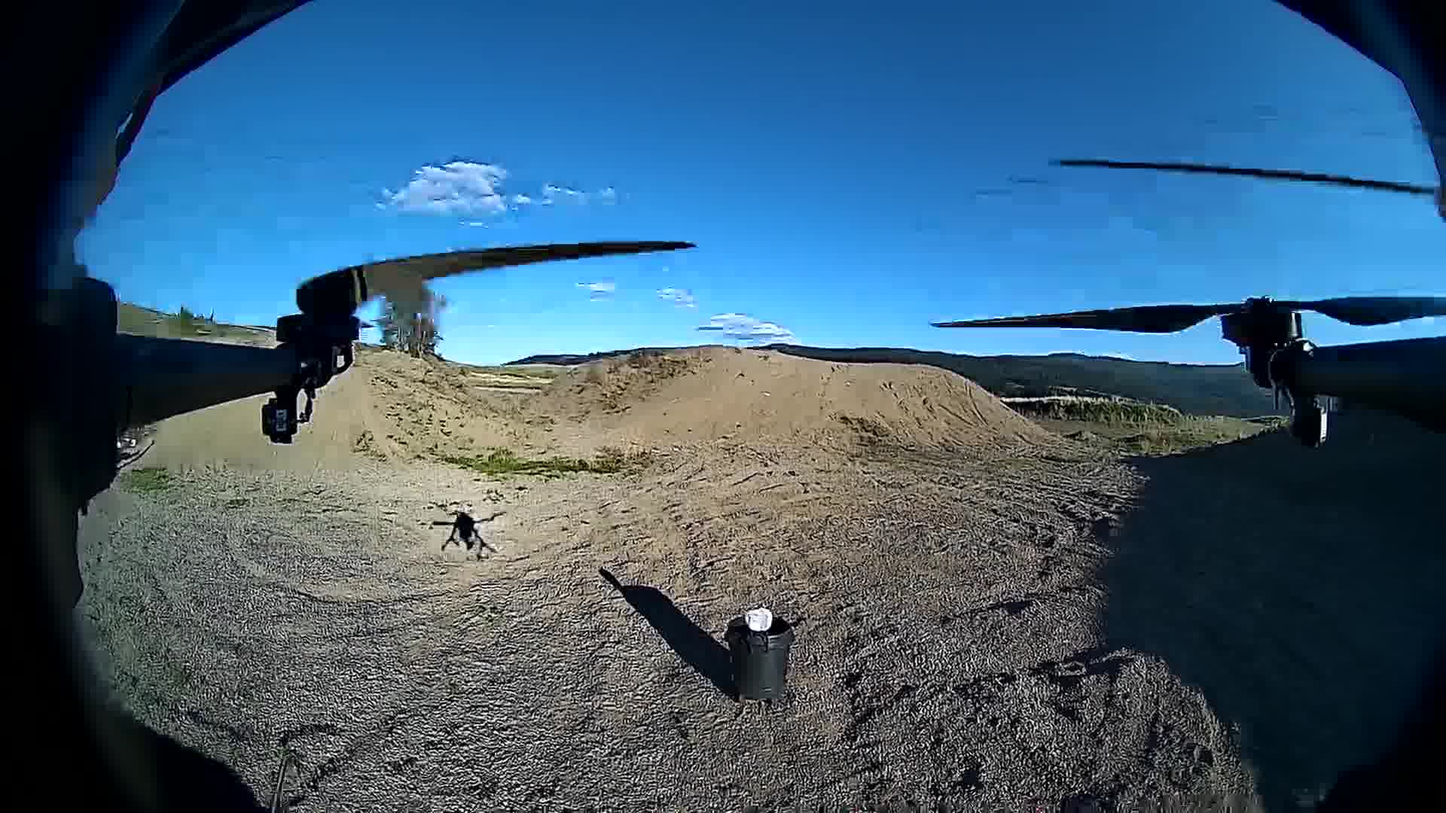Target: (744, 607, 774, 633)
